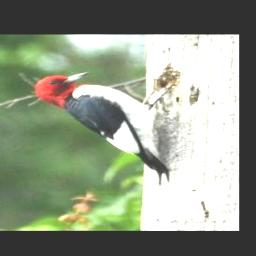Woodpecker: (34, 71, 168, 183)
